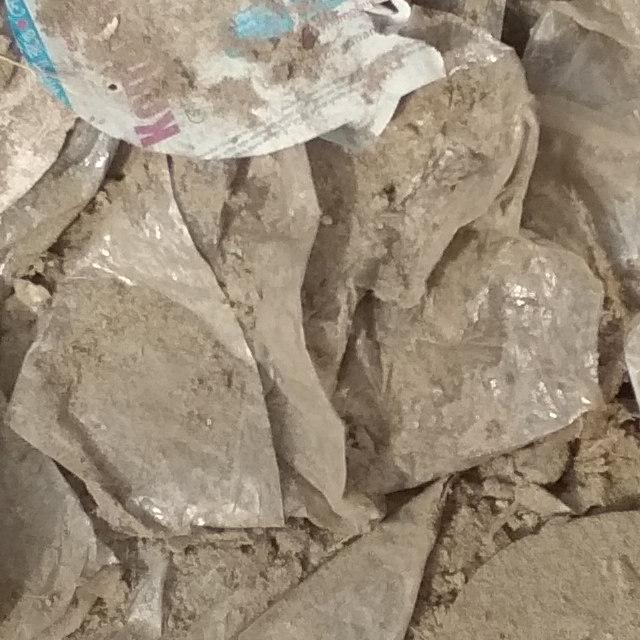paper: (0, 0, 513, 190)
plastic: (0, 0, 640, 640)
